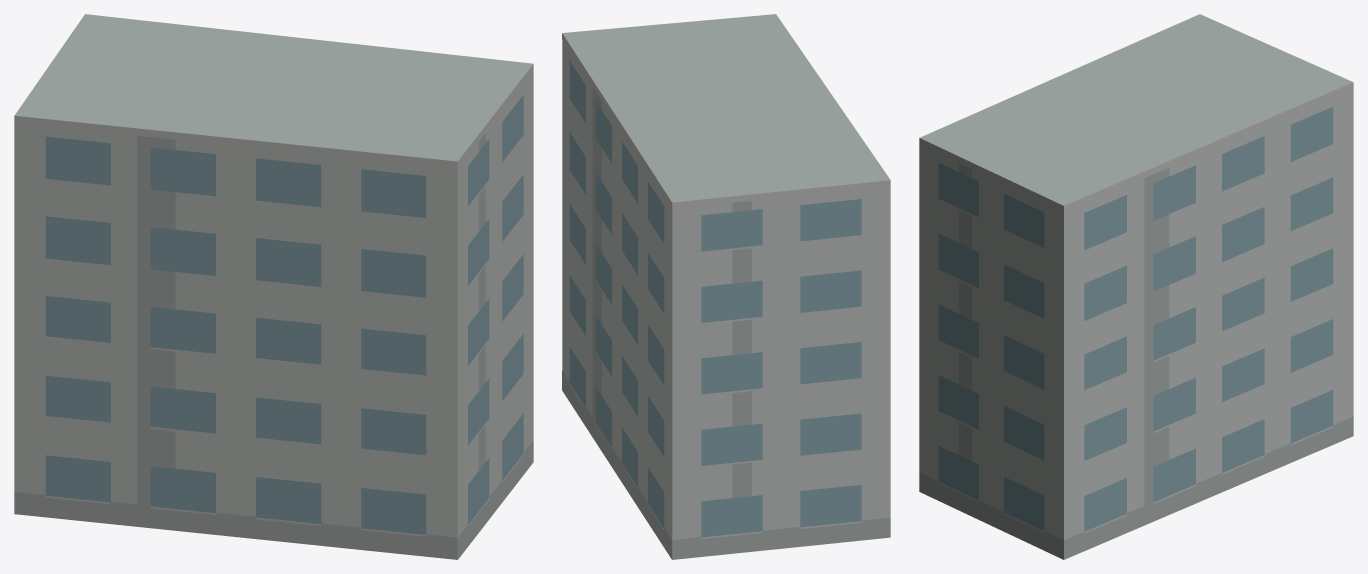
The model's file is survey-upis-32945699.glb.
The picture shows the model from 3 angles, left to right: view 1: azimuth 30°, elevation 25°; view 2: azimuth 150°, elevation 25°; view 3: azimuth 270°, elevation 25°; orthographic projection. The views are drawn at different scales.
Parts seen in each view (by area): view 1: survey-upis-32945699.tmp; view 2: survey-upis-32945699.tmp; view 3: survey-upis-32945699.tmp.
Part boxes in pixels (x1,y1,x2,y2): survey-upis-32945699.tmp: (14, 14, 533, 559); survey-upis-32945699.tmp: (562, 14, 890, 559); survey-upis-32945699.tmp: (919, 14, 1353, 559).
Size of the model in its own units: 15.36 by 13.2 by 14.68.
